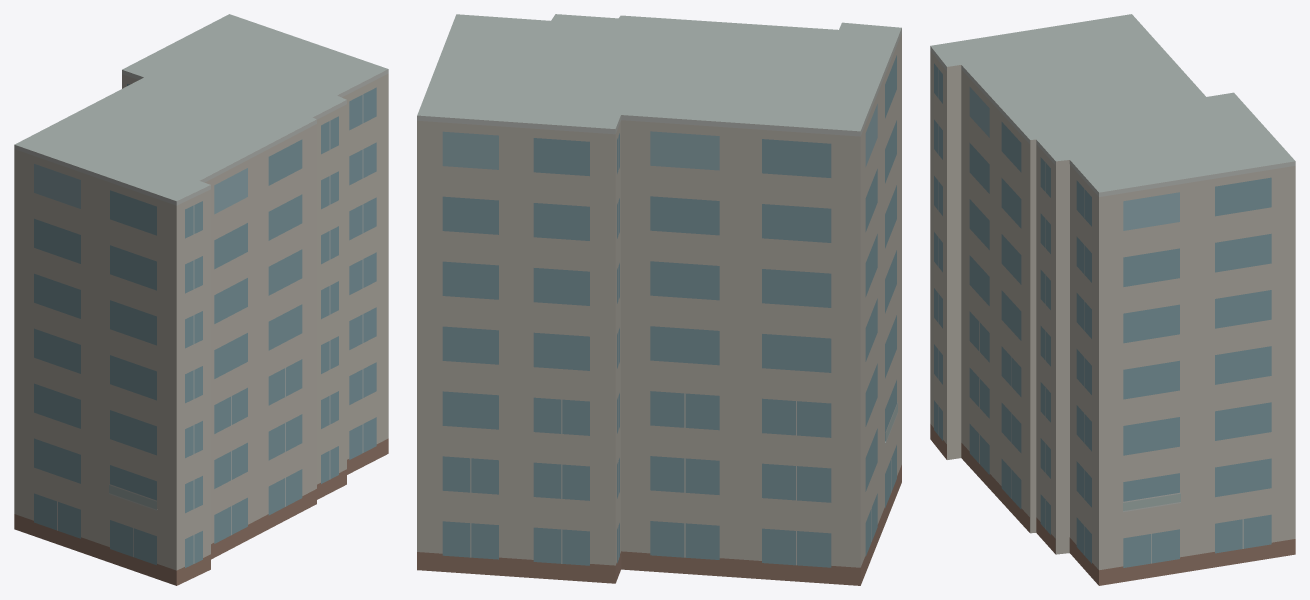
The model's file is survey-upis-32957416.glb.
The picture shows the model from 3 angles, left to right: view 1: azimuth 30°, elevation 25°; view 2: azimuth 150°, elevation 25°; view 3: azimuth 270°, elevation 25°; orthographic projection. The views are drawn at different scales.
Parts seen in each view (by area): view 1: survey-upis-32957416.tmp; view 2: survey-upis-32957416.tmp; view 3: survey-upis-32957416.tmp.
Part boxes in pixels (x1,y1,x2,y2): survey-upis-32957416.tmp: [14, 14, 388, 585]; survey-upis-32957416.tmp: [417, 14, 901, 585]; survey-upis-32957416.tmp: [930, 14, 1295, 585].
Bounding box in the file's own units: 20.81 × 21.35 × 17.99.
